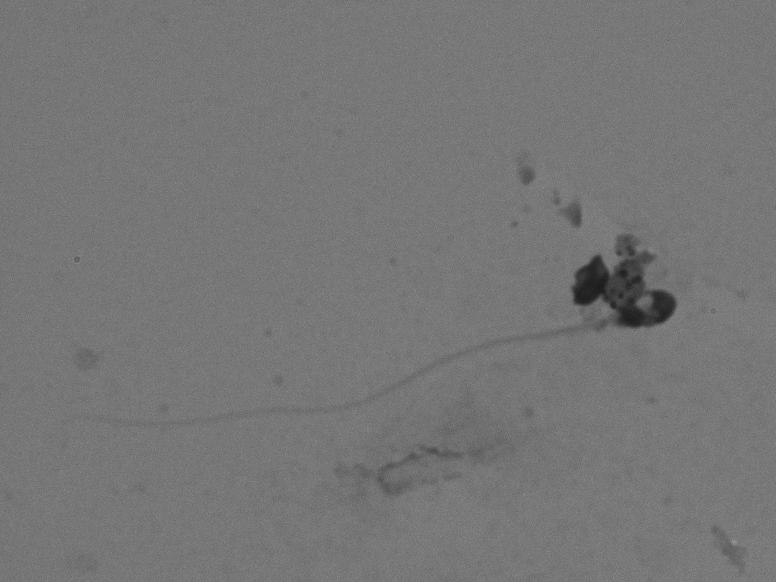Abnormal: (51, 278, 700, 447)
